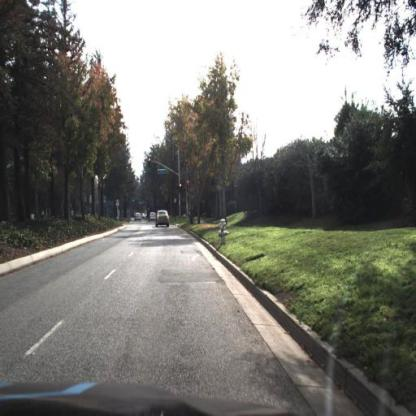car: (155, 209, 171, 228), (156, 209, 170, 227), (150, 209, 158, 223), (135, 210, 144, 222)
trafficLight-Red: (185, 176, 193, 193), (188, 178, 193, 193), (148, 157, 153, 170), (179, 183, 184, 195)
